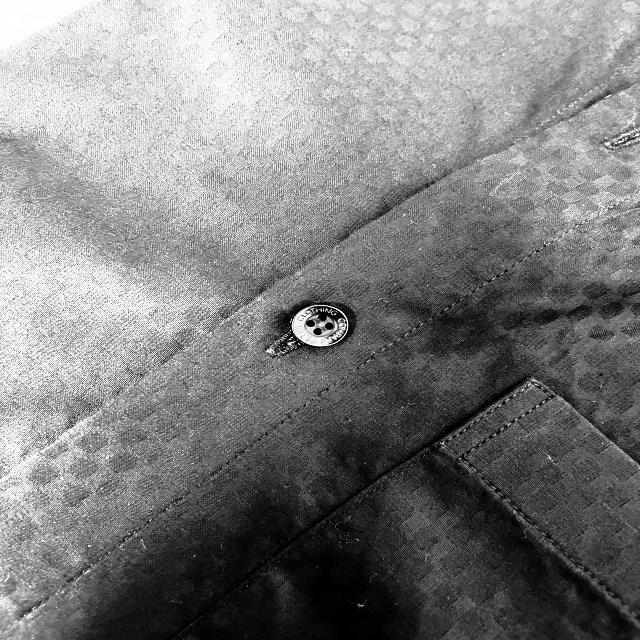Button_hike: (258, 298, 366, 366)
